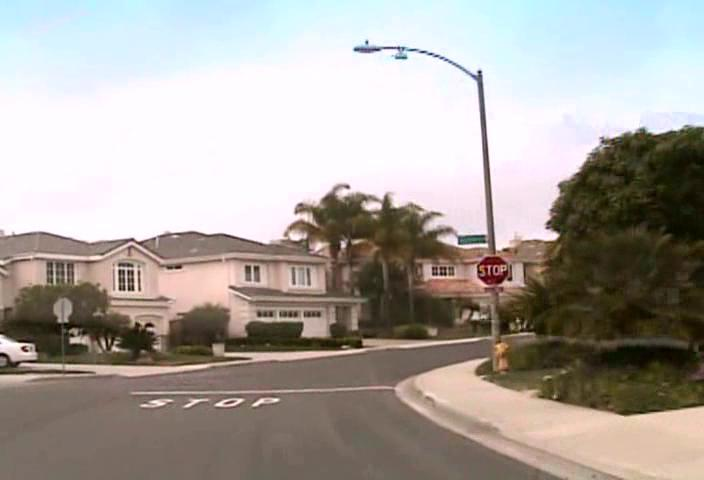stop: (476, 254, 509, 286)
